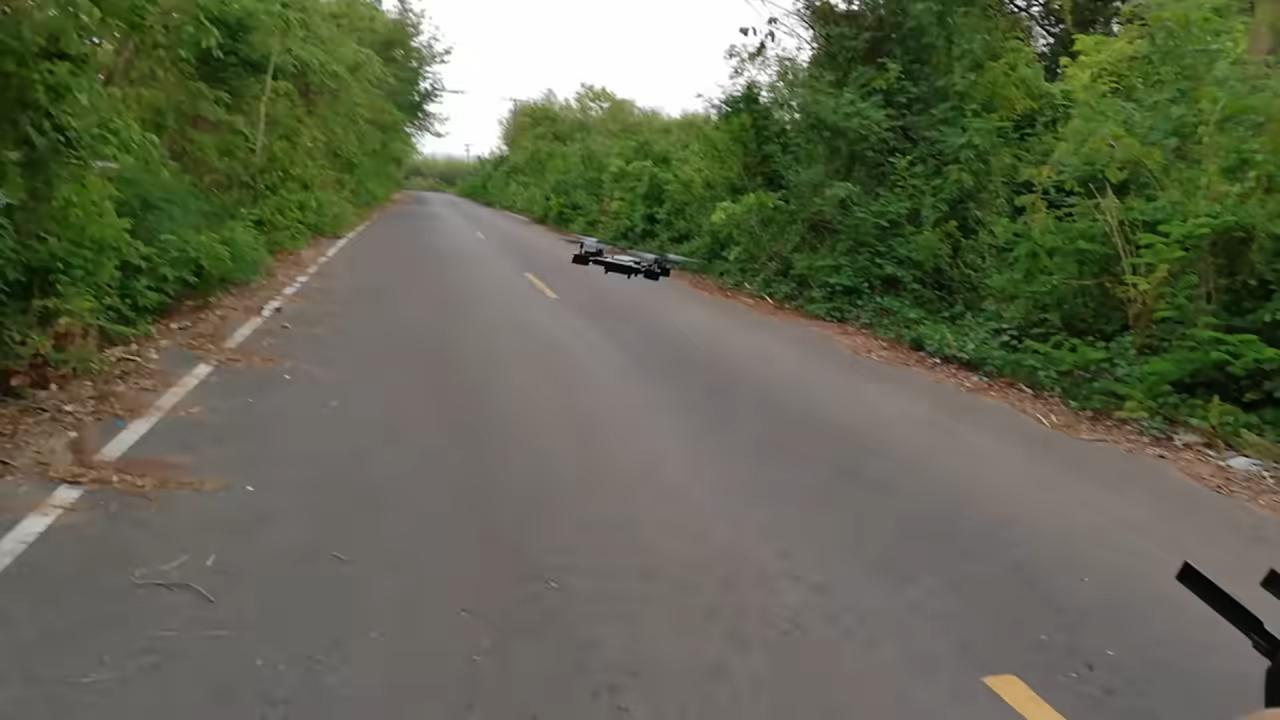Drone: (548, 230, 717, 295)
